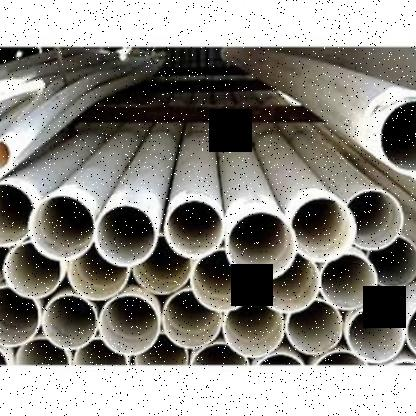pipe: (226, 212, 297, 280), (291, 196, 356, 262), (28, 196, 93, 260), (94, 204, 156, 267), (222, 296, 285, 358), (190, 250, 253, 311), (257, 255, 321, 313), (100, 294, 160, 355), (346, 190, 404, 251), (67, 244, 130, 300), (163, 290, 222, 349), (164, 199, 222, 259), (132, 235, 190, 294), (3, 242, 62, 300), (348, 306, 405, 364), (320, 254, 378, 309), (42, 294, 98, 350), (286, 300, 344, 354), (365, 232, 416, 290), (379, 102, 416, 174), (0, 285, 40, 346), (0, 184, 33, 247), (134, 333, 188, 365), (74, 337, 130, 367), (191, 343, 249, 371), (16, 339, 71, 365), (252, 354, 303, 364)
